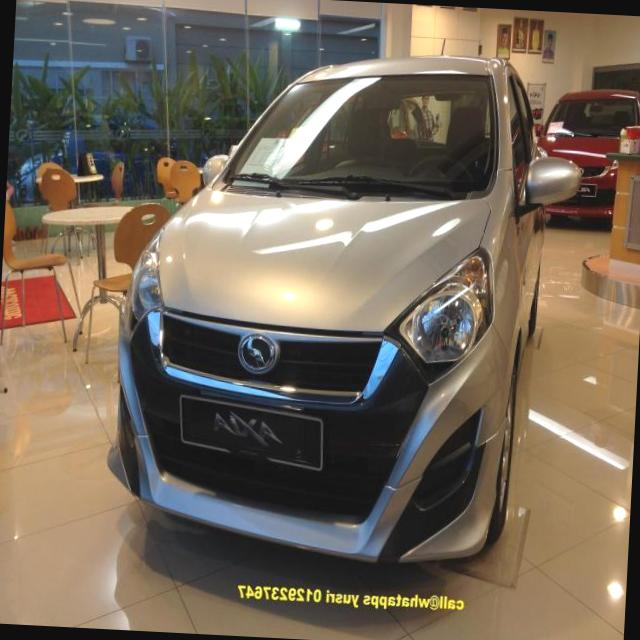PeroduaAxia: (105, 35, 588, 574)
